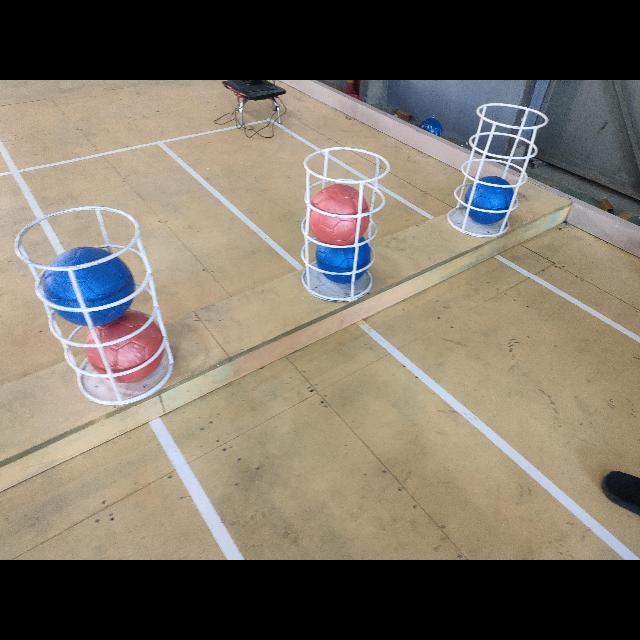B: (42, 246, 134, 326), (316, 234, 372, 284), (466, 177, 514, 225)
R: (86, 311, 166, 383), (308, 186, 368, 247)
